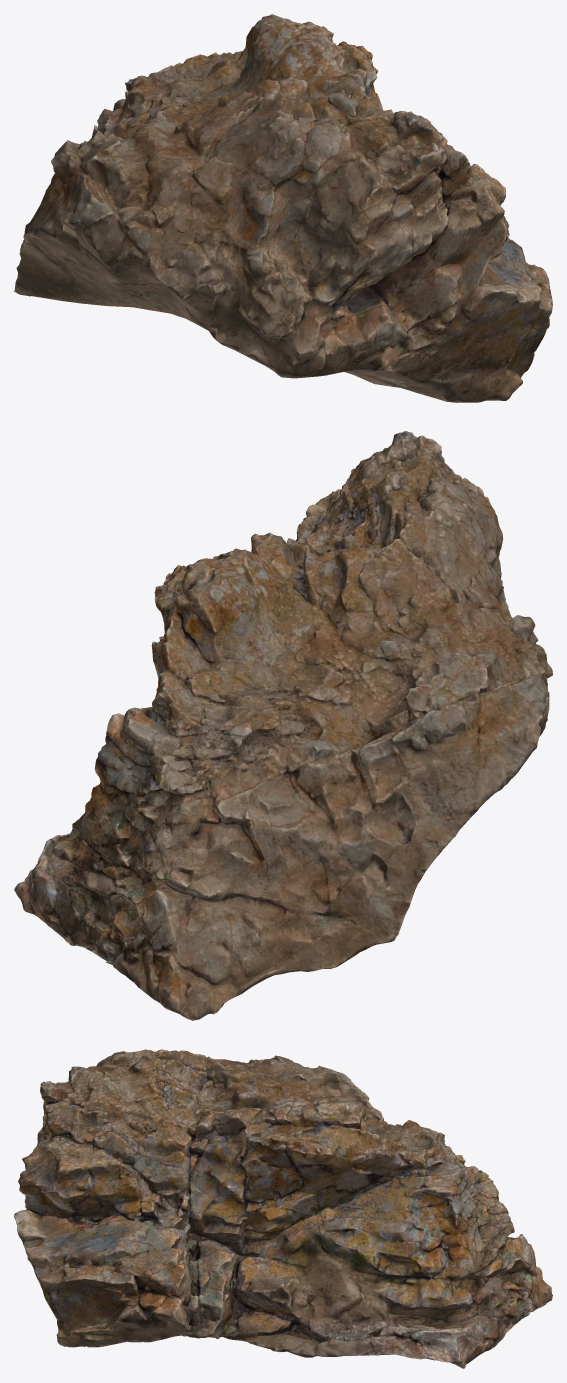
File: boulder.glb
3 renders of one model, top to bottom at view 1: azimuth 30°, elevation 25°; view 2: azimuth 150°, elevation 25°; view 3: azimuth 270°, elevation 25°, orthographic. The views are drawn at different scales.
Parts seen in each view (by area): view 1: boulder_01; view 2: boulder_01; view 3: boulder_01.
Boxes of the visible parts, bbox=[...] form: boulder_01: bbox=[14, 14, 552, 402]; boulder_01: bbox=[14, 431, 552, 1020]; boulder_01: bbox=[14, 1049, 552, 1368].
Bounding box in the file's own units: 1.27 × 1 × 1.83.
1 material, 1 textured.
